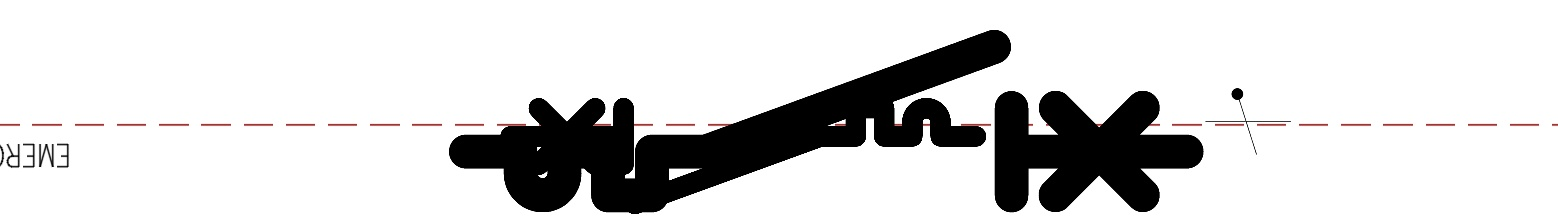interruptor_termomagnetico: (447, 28, 1205, 214), (498, 96, 988, 216)
